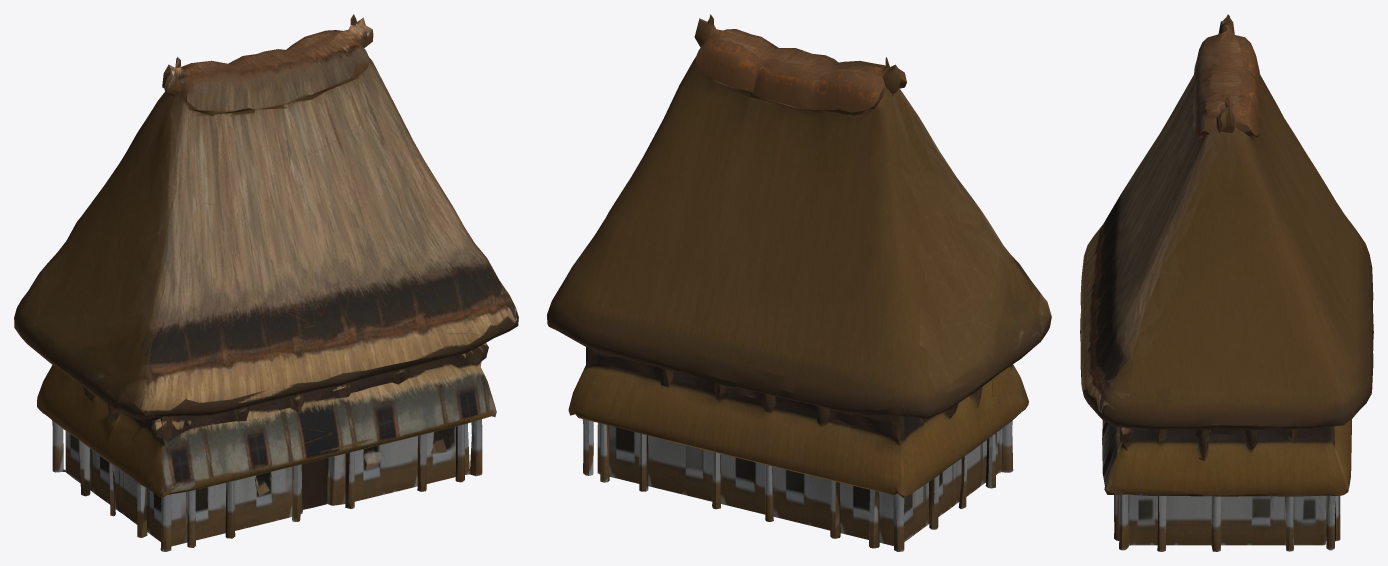
File: guaranies_karai_palabra.glb
The picture shows the model from 3 angles, left to right: view 1: azimuth 30°, elevation 25°; view 2: azimuth 150°, elevation 25°; view 3: azimuth 270°, elevation 25°; orthographic projection. The views are drawn at different scales.
Parts seen in each view (by area): view 1: geometry_0; view 2: geometry_0; view 3: geometry_0.
Part boxes in pixels (bbox=[...]): geometry_0: bbox=[14, 14, 518, 551]; geometry_0: bbox=[547, 14, 1051, 551]; geometry_0: bbox=[1080, 14, 1373, 551].
Bounding box in the file's own units: 3.4 × 3.58 × 2.27.
Materials: 1 (1 with a texture image).
